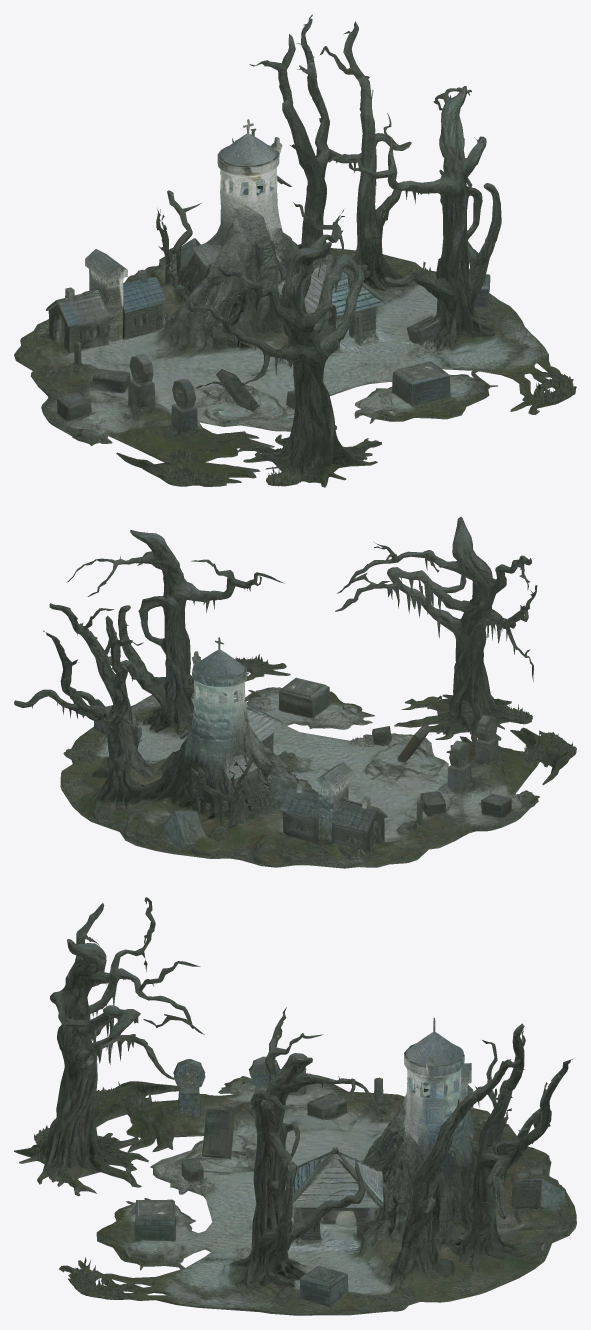
The model's file is forest_web.glb.
3 views of the same model, one above another, from view 1: azimuth 30°, elevation 25°; view 2: azimuth 150°, elevation 25°; view 3: azimuth 270°, elevation 25° (orthographic). The views are drawn at different scales.
Size of the model in its own units: 1.88 by 0.8822 by 1.89.
1 material, 1 textured.
